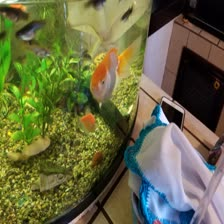Cuezo: (88, 31, 142, 105)
Guppy: (14, 17, 50, 42), (21, 39, 54, 63)
Plano: (70, 109, 100, 131)
